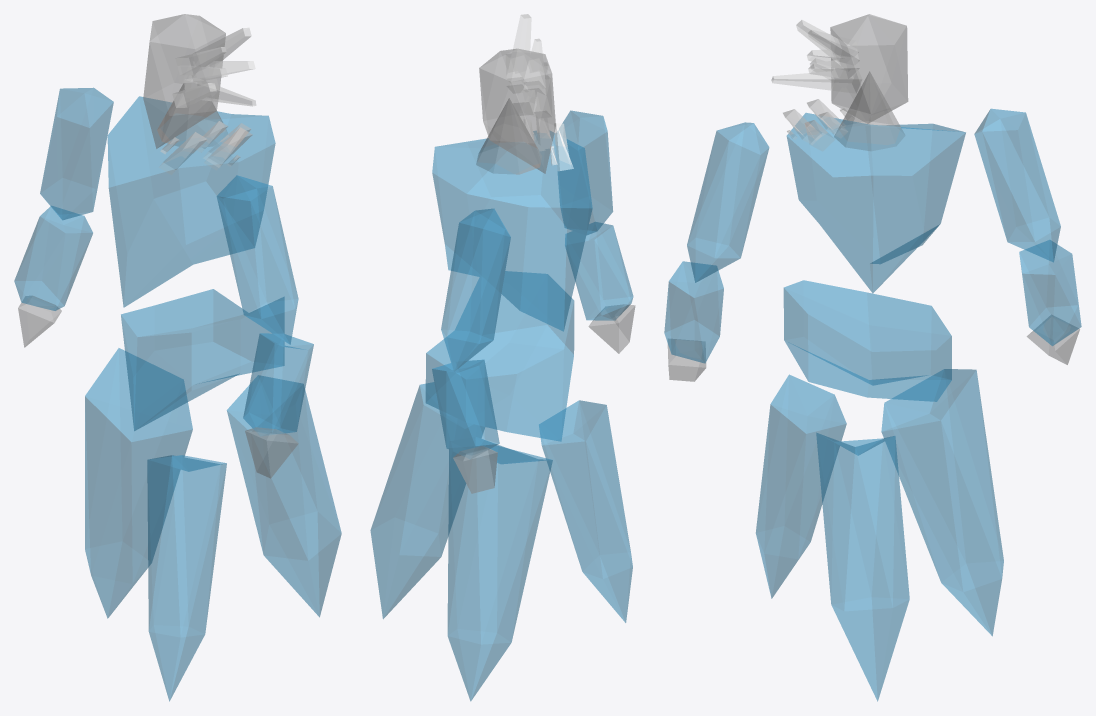
File: ghostIdle39.obj
3 renders of one model, left to right at view 1: azimuth 30°, elevation 25°; view 2: azimuth 150°, elevation 25°; view 3: azimuth 270°, elevation 25°, orthographic. The views are drawn at different scales.
Visible parts, largest first — view 1: Cube.001_Cube.001, Icosphere.005, Icosphere.004, Cube_Cube.002, Icosphere.003, Icosphere.005_Icosphere.001, Icosphere.003_Icosphere.001, Icosphere.007_Icosphere.001, Icosphere.006_Icosphere.001, Icosphere.008_Icosphere.001, Cone_Cone.002, Cube.002_Cube.001 (+8 smaller); view 2: Cube.001_Cube.001, Cube_Cube.002, Icosphere.005, Icosphere.004, Icosphere.003, Icosphere.007_Icosphere.001, Icosphere.003_Icosphere.001, Icosphere.005_Icosphere.001, Icosphere.008_Icosphere.001, Icosphere.006_Icosphere.001, Cone_Cone.002, Cube.003_Cube.001 (+6 smaller); view 3: Cube.001_Cube.001, Icosphere.005, Icosphere.004, Cube_Cube.002, Icosphere.003, Icosphere.005_Icosphere.001, Icosphere.007_Icosphere.001, Icosphere.003_Icosphere.001, Icosphere.006_Icosphere.001, Icosphere.008_Icosphere.001, Cone_Cone.002, Cube.003_Cube.001 (+4 smaller).
Boxes of the visible parts, x1,y1,x2,y2 form: Cube.001_Cube.001: (107,96,275,307); Icosphere.005: (85,348,192,618); Icosphere.004: (227,375,341,617); Cube_Cube.002: (121,289,284,430); Icosphere.003: (147,455,226,701); Icosphere.005_Icosphere.001: (216,175,298,344); Icosphere.003_Icosphere.001: (143,14,225,148); Icosphere.007_Icosphere.001: (40,87,113,220); Icosphere.006_Icosphere.001: (243,333,313,436); Icosphere.008_Icosphere.001: (14,206,92,310); Cone_Cone.002: (157,83,227,147); Cube.002_Cube.001: (245,427,298,478); Cube.001_Cube.001: (432,131,592,331); Cube_Cube.002: (425,271,574,441); Icosphere.005: (447,437,552,701); Icosphere.004: (370,382,484,618); Icosphere.003: (539,400,632,622); Icosphere.007_Icosphere.001: (441,208,510,371); Icosphere.003_Icosphere.001: (479,48,555,173); Icosphere.005_Icosphere.001: (556,110,612,235); Icosphere.008_Icosphere.001: (432,359,499,459); Icosphere.006_Icosphere.001: (565,222,633,320); Cone_Cone.002: (476,98,540,174); Cube.003_Cube.001: (453,446,497,493); Cube.001_Cube.001: (786,113,965,293); Icosphere.005: (881,369,1003,636); Icosphere.004: (816,432,909,701); Cube_Cube.002: (783,280,951,401); Icosphere.003: (756,374,846,598); Icosphere.005_Icosphere.001: (687,122,769,282); Icosphere.007_Icosphere.001: (974,108,1060,262); Icosphere.003_Icosphere.001: (830,14,908,123); Icosphere.006_Icosphere.001: (664,261,723,363); Icosphere.008_Icosphere.001: (1019,240,1081,345); Cone_Cone.002: (834,71,905,150); Cube.003_Cube.001: (1027,315,1079,364).
Size of the model in its own units: 17.05 by 47.44 by 28.27.
